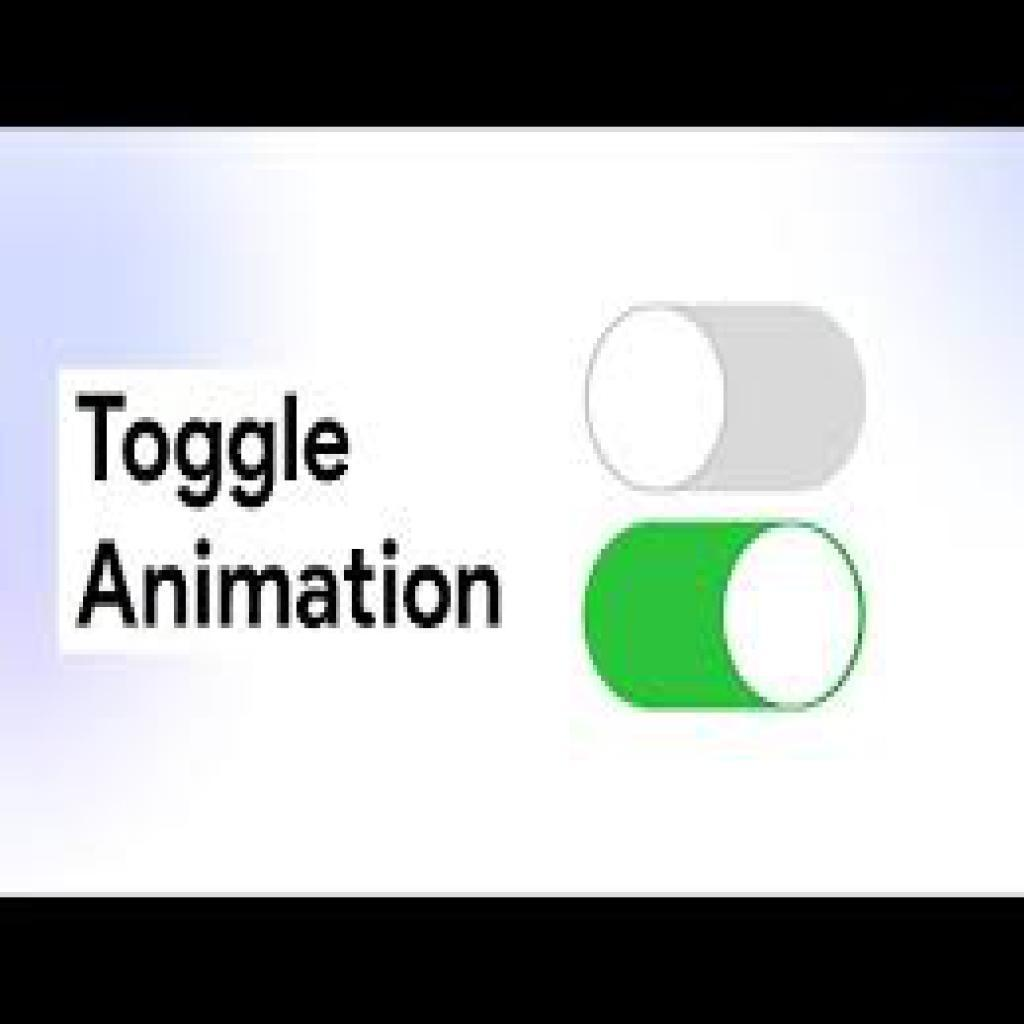switch: (580, 288, 868, 504), (579, 515, 867, 714)
